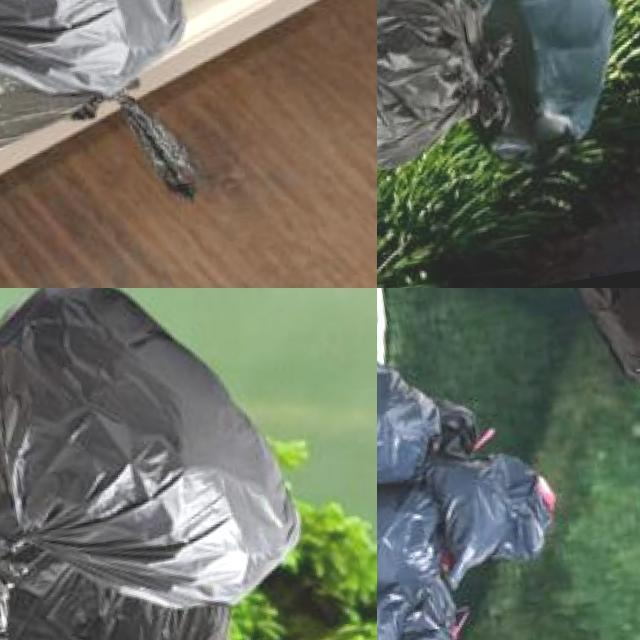waste: (0, 288, 314, 640), (0, 430, 253, 640), (0, 0, 207, 249), (377, 0, 529, 197), (0, 0, 212, 115), (423, 434, 572, 585), (377, 312, 457, 491), (377, 460, 446, 597), (377, 558, 477, 640)
